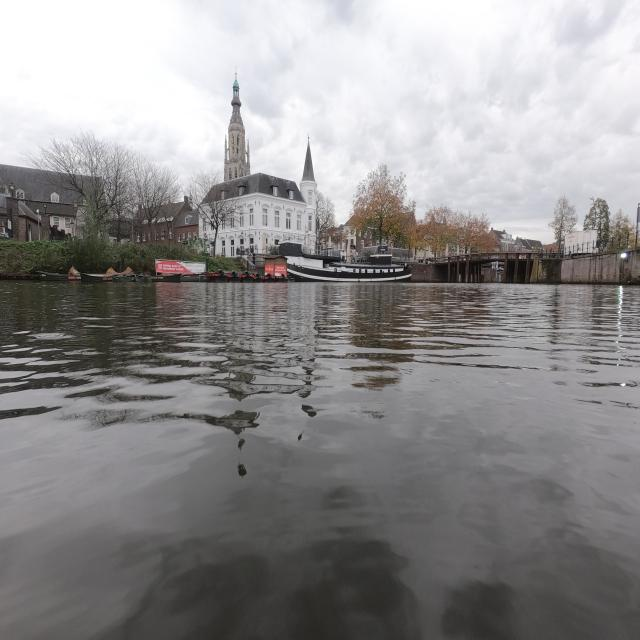boat: (78, 260, 288, 282), (292, 256, 408, 278)
grass: (2, 240, 98, 274)
tree: (31, 132, 180, 248), (349, 164, 414, 243), (453, 212, 493, 253), (423, 206, 456, 255), (404, 218, 425, 252)
wall: (530, 254, 636, 286)
water: (8, 290, 638, 634)
